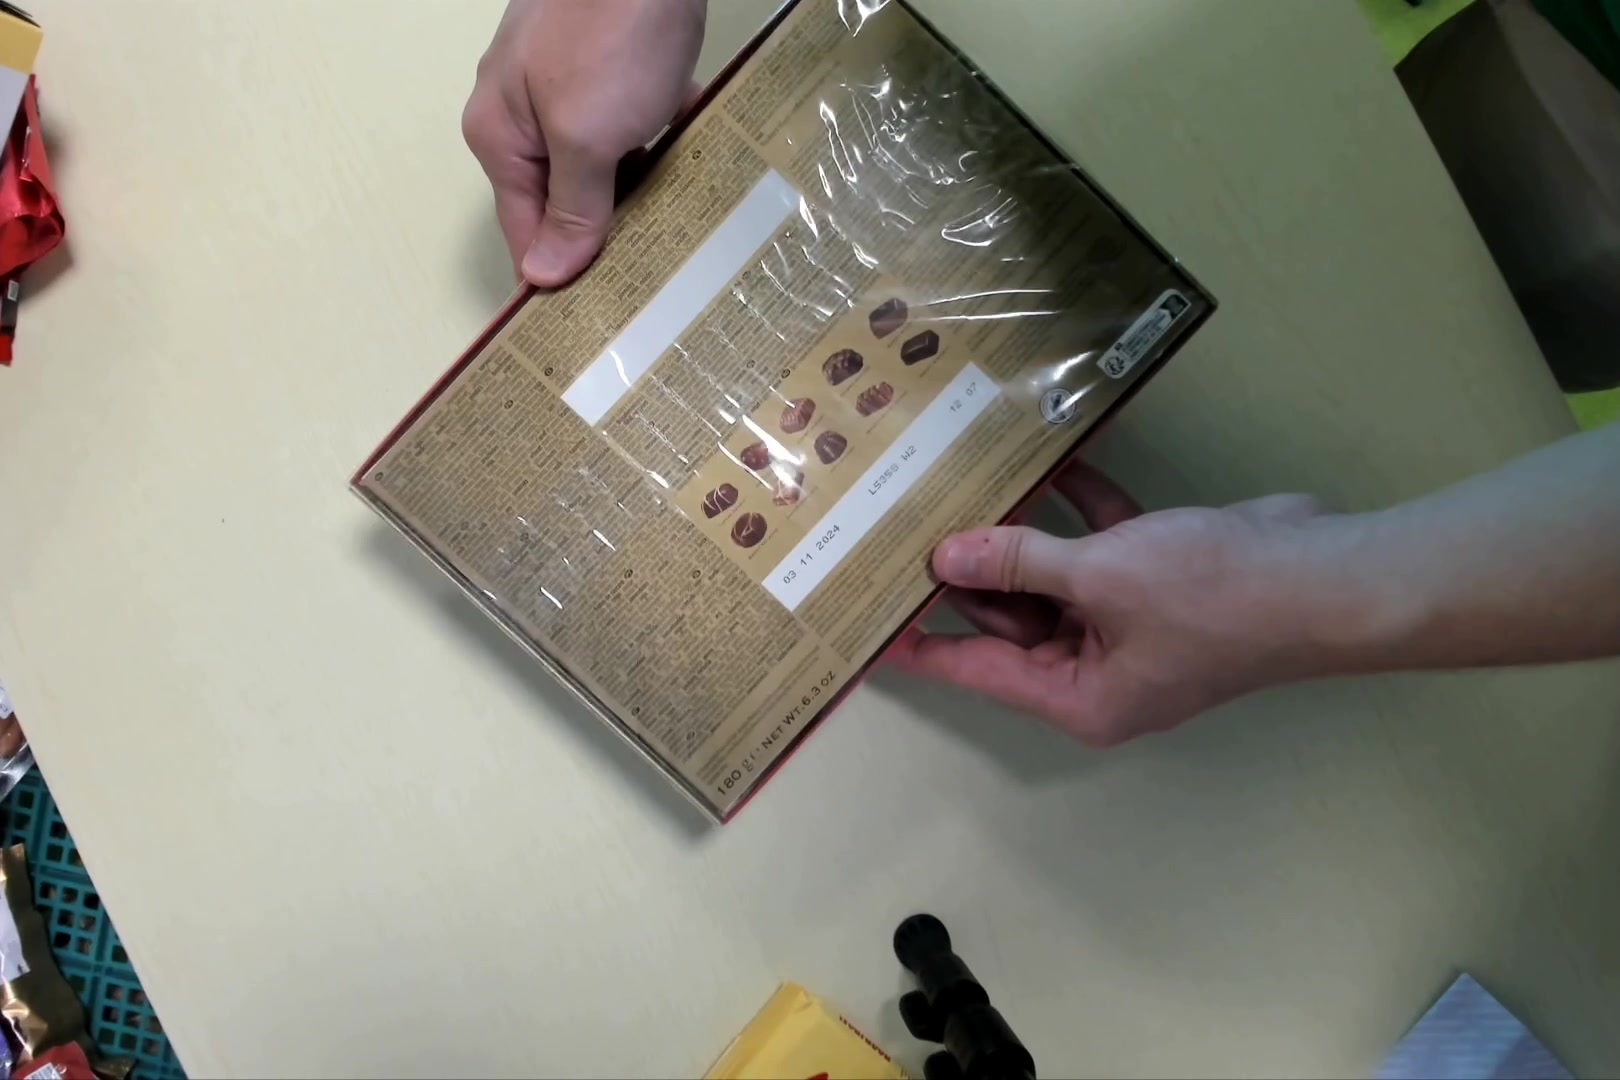SweetsChocolatesOthers_100-199g_NonHalal_NonHealthy: (353, 5, 1222, 827)
